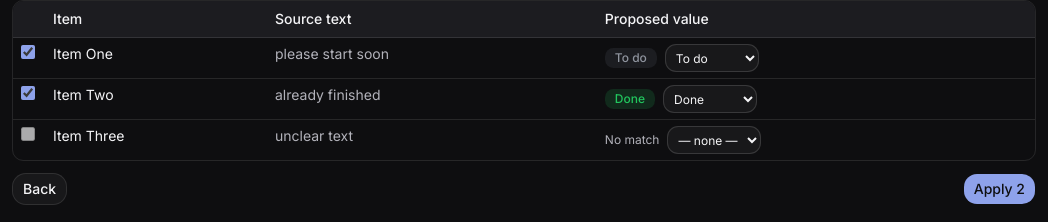
SmartFillGrid › disables Apply when nothing is accepted
Click the checkbox named "accept item one": [28, 52] box [21,45,35,59]
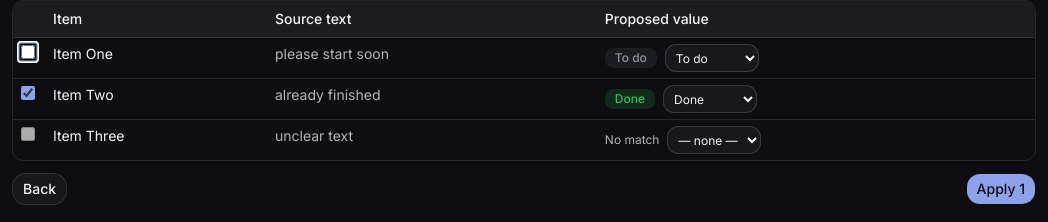
Click the checkbox named "accept item two": [28, 93] box [21,86,35,100]
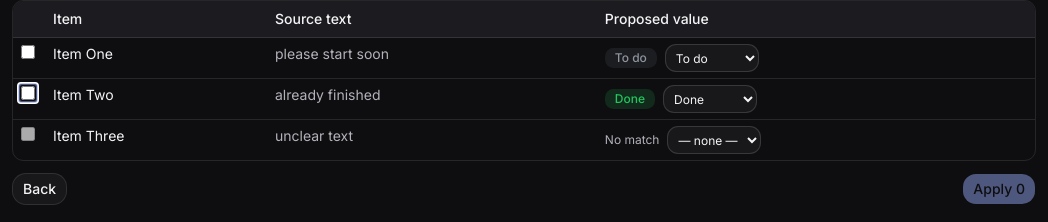
Now the button "Apply 0" is disabled, box [962,173,1036,205]
